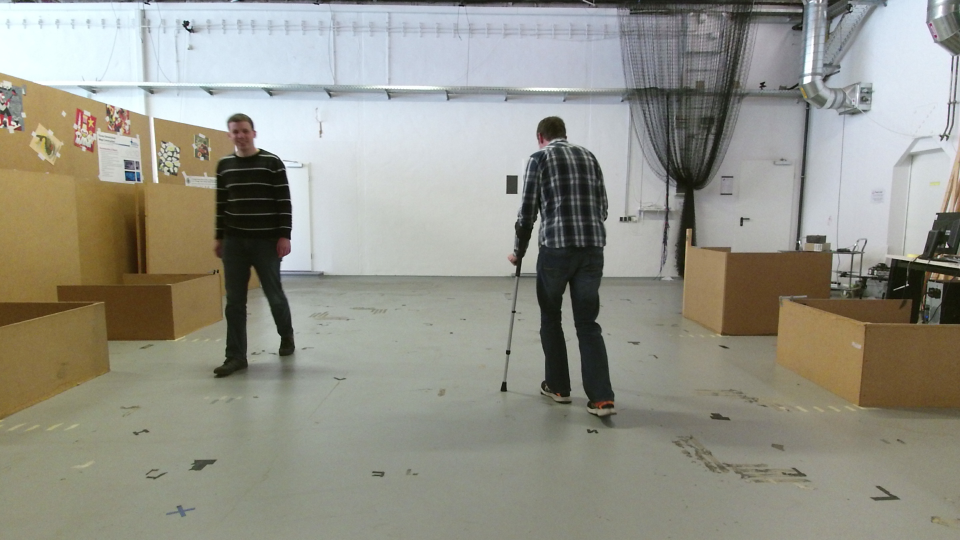crutches: (488, 108, 618, 437)
